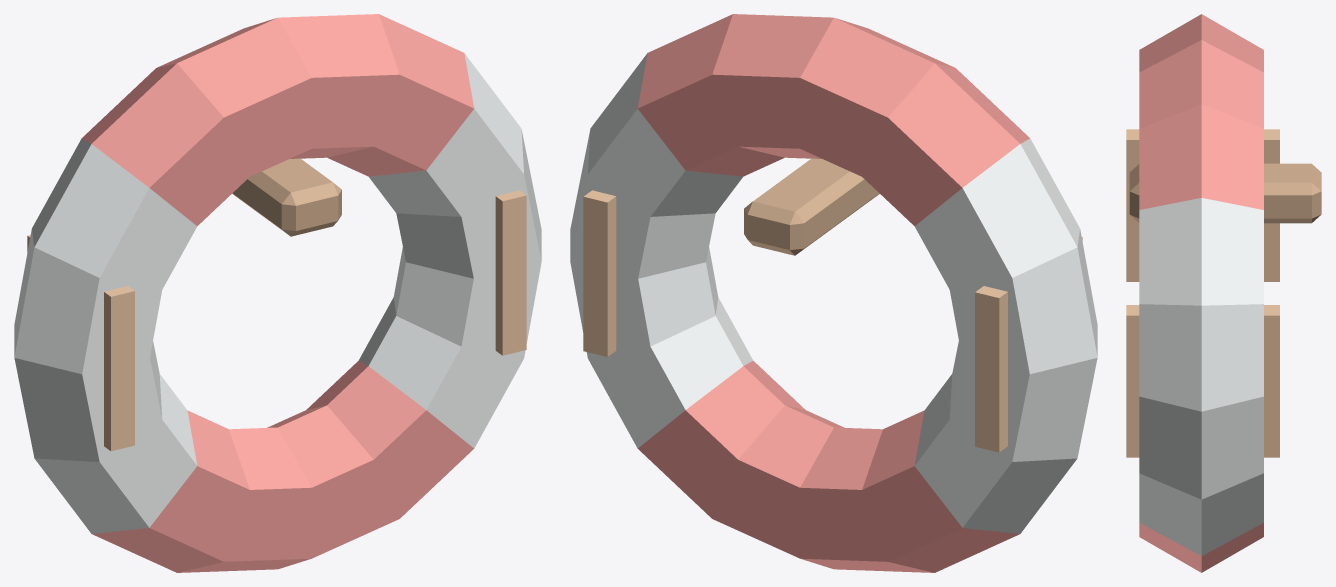
The model's file is lifebuoy.glb.
3 renders of one model, left to right at view 1: azimuth 30°, elevation 25°; view 2: azimuth 150°, elevation 25°; view 3: azimuth 270°, elevation 25°, orthographic. The views are drawn at different scales.
Parts seen in each view (by area): view 1: Lifebuoy; view 2: Lifebuoy; view 3: Lifebuoy.
Boxes of the visible parts, left/top/right/bottom form: Lifebuoy: left=14, top=14, right=541, bottom=572; Lifebuoy: left=570, top=14, right=1097, bottom=572; Lifebuoy: left=1126, top=14, right=1321, bottom=572.
Size of the model in its own units: 0.3182 by 0.3182 by 0.1109.
